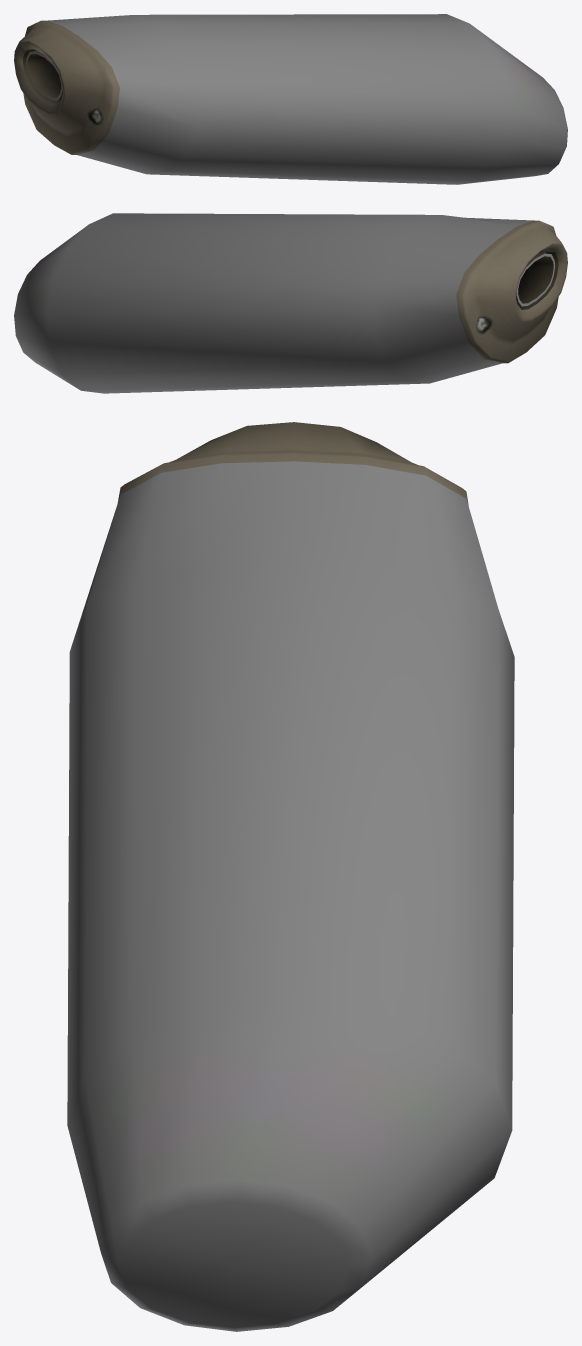
Rendered from exhaust_stock.obj.
The picture shows the model from 3 angles, top to bottom: view 1: azimuth 30°, elevation 25°; view 2: azimuth 150°, elevation 25°; view 3: azimuth 270°, elevation 25°; orthographic projection. The views are drawn at different scales.
Parts seen in each view (by area): view 1: polySurface879; view 2: polySurface879; view 3: polySurface879.
Part boxes in pixels (left/top/right/bottom): polySurface879: left=14, top=14, right=567, bottom=184; polySurface879: left=14, top=213, right=567, bottom=393; polySurface879: left=67, top=422, right=514, bottom=1331.
Size of the model in its own units: 17.05 by 7.54 by 6.69.
Materials: 1 (1 with a texture image).
